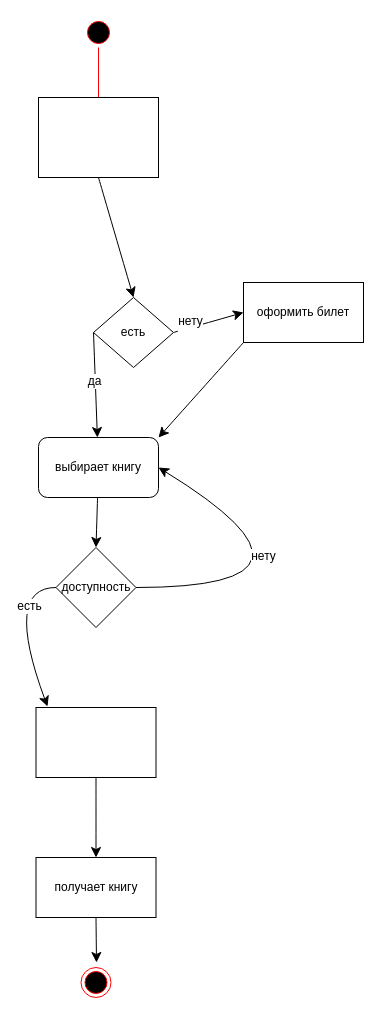
The diagram is 381 pixels wide and 1015 high, and some of its shapes have lost their labels. The shapes that lost their labels are listed below. From the top down, each one's centre as x and y in pixels, then its label:
At (x=98, y=137): "наличие билета".
At (x=95, y=742): "регистрация выдачи".
